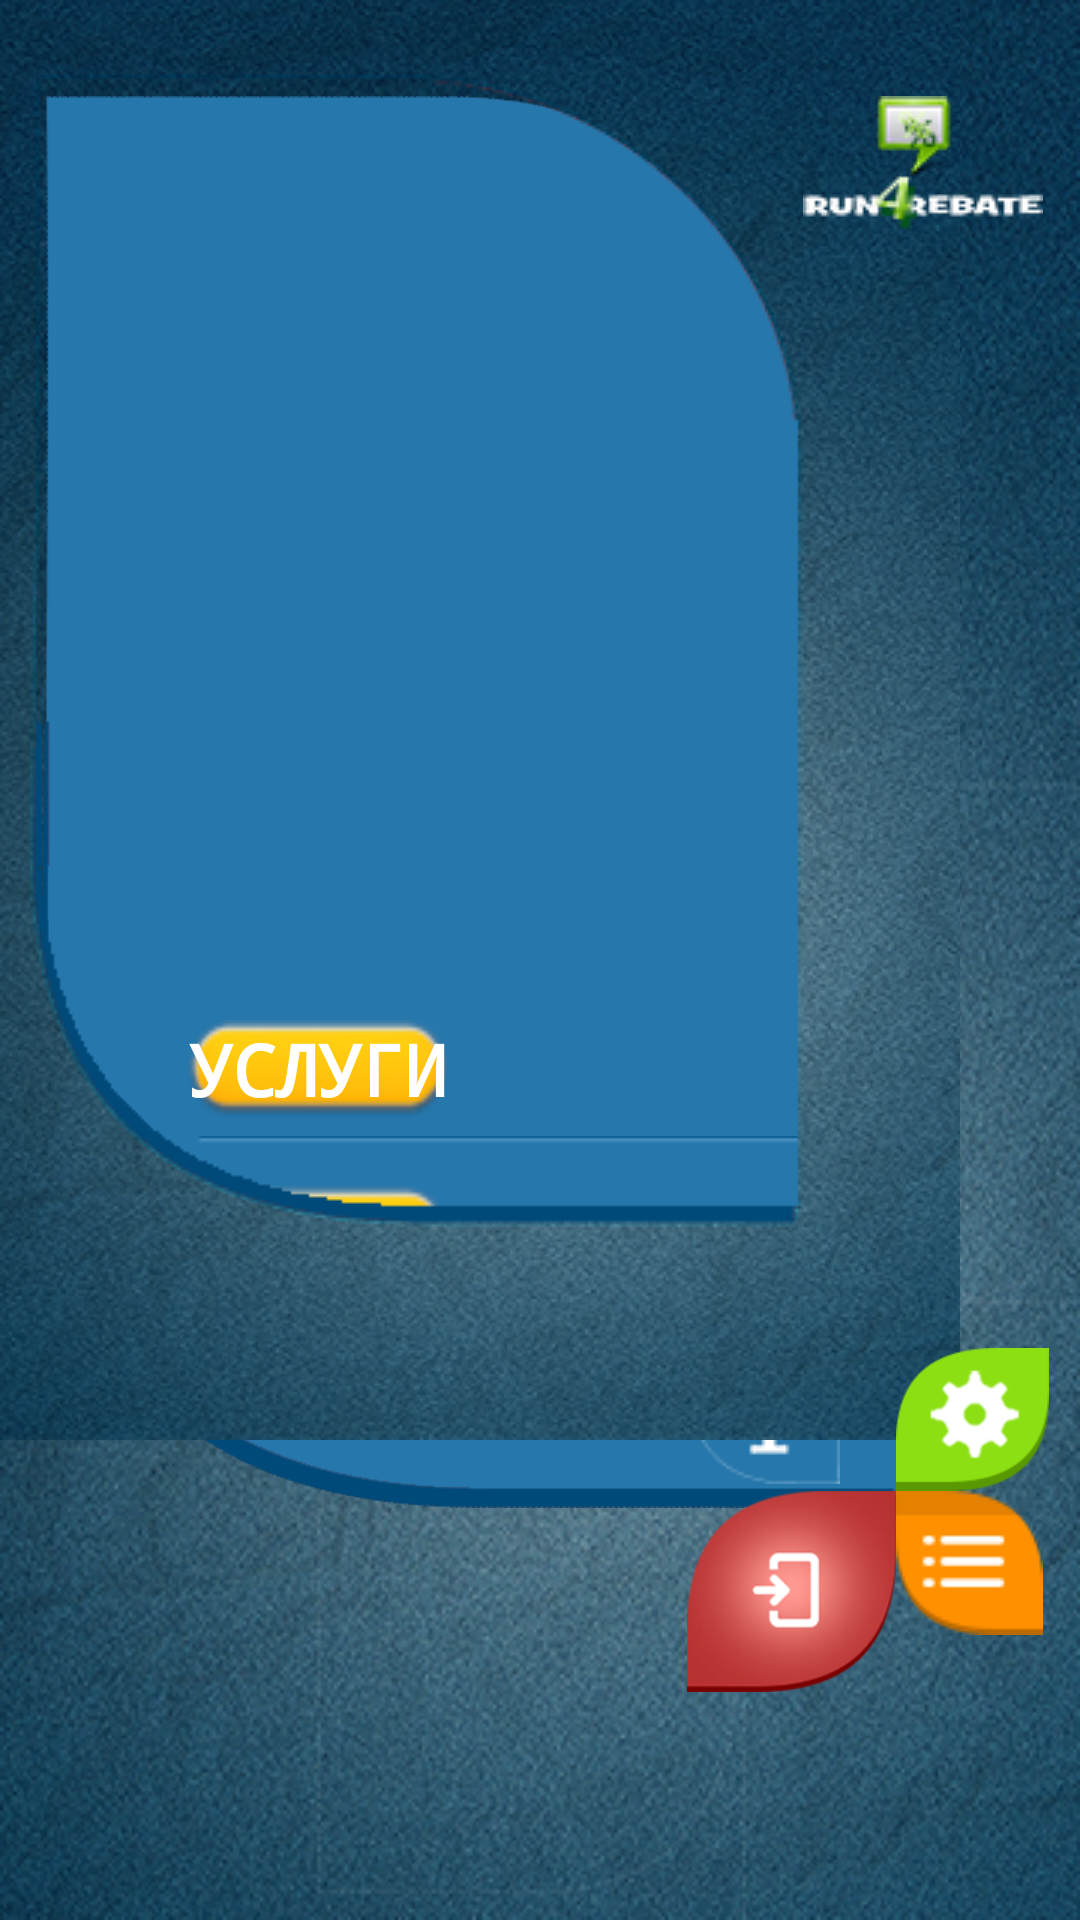

Where icons sit on this 1080*1920 app screen, as (x1, y1, x2, y2):
menu: (896, 1491, 1043, 1635)
settings: (896, 1348, 1049, 1491)
